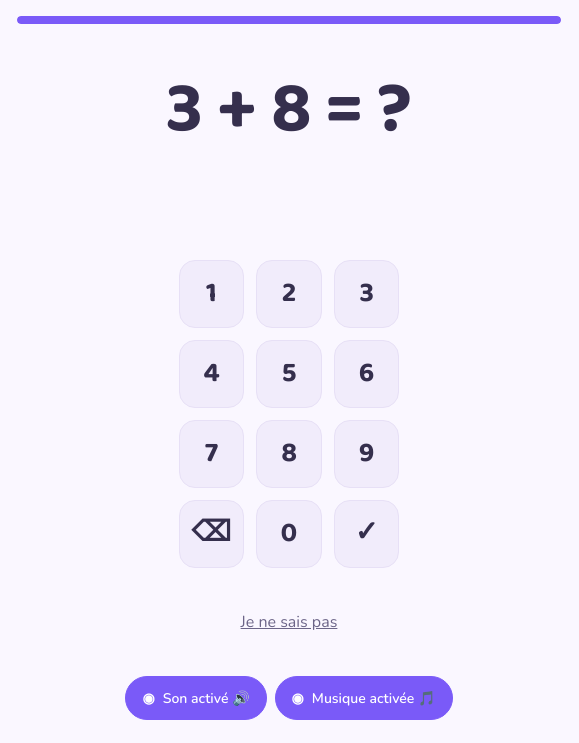
Test: PlayScreen — niveau normal, format pavé › saisie pavé jugée localement (juste) puis feedback positif
Check: the text "3 + 8 = ?" is shown, box [166,56,412,164]
Click the button "1" at (211, 294), box [179,260,244,328]
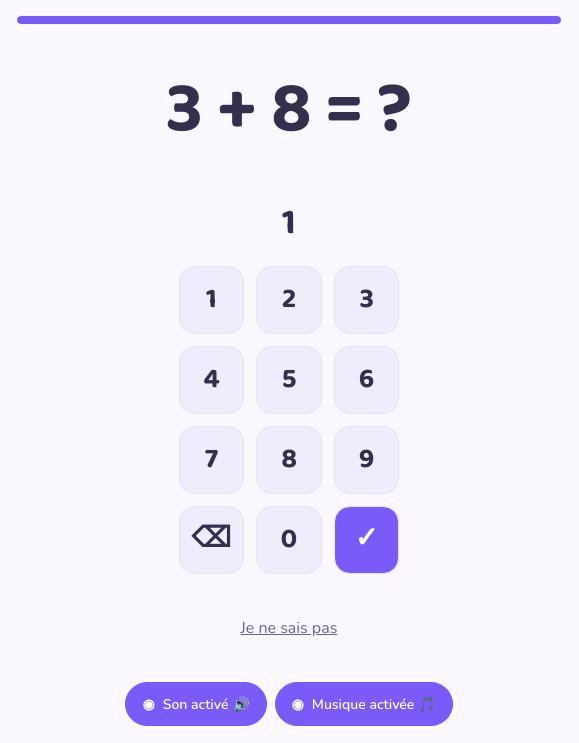
Click the button "1" at (211, 300), box [179,266,244,334]
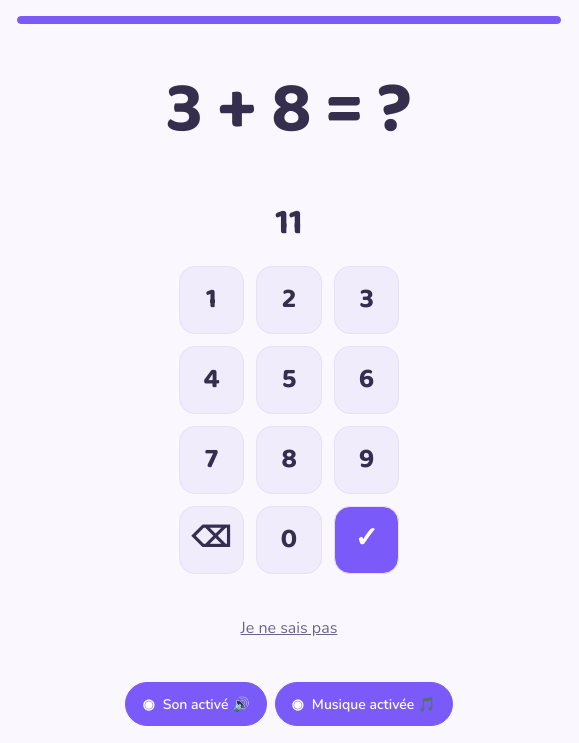
Click the button named "Valider" at (367, 540), box [334,506,399,574]
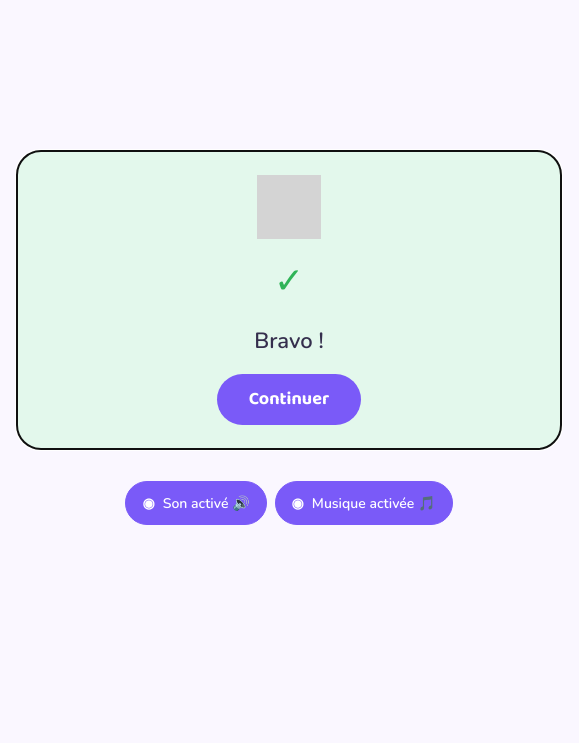
Check: the message "✓ Bravo !" is shown, box [17,151,561,449]
